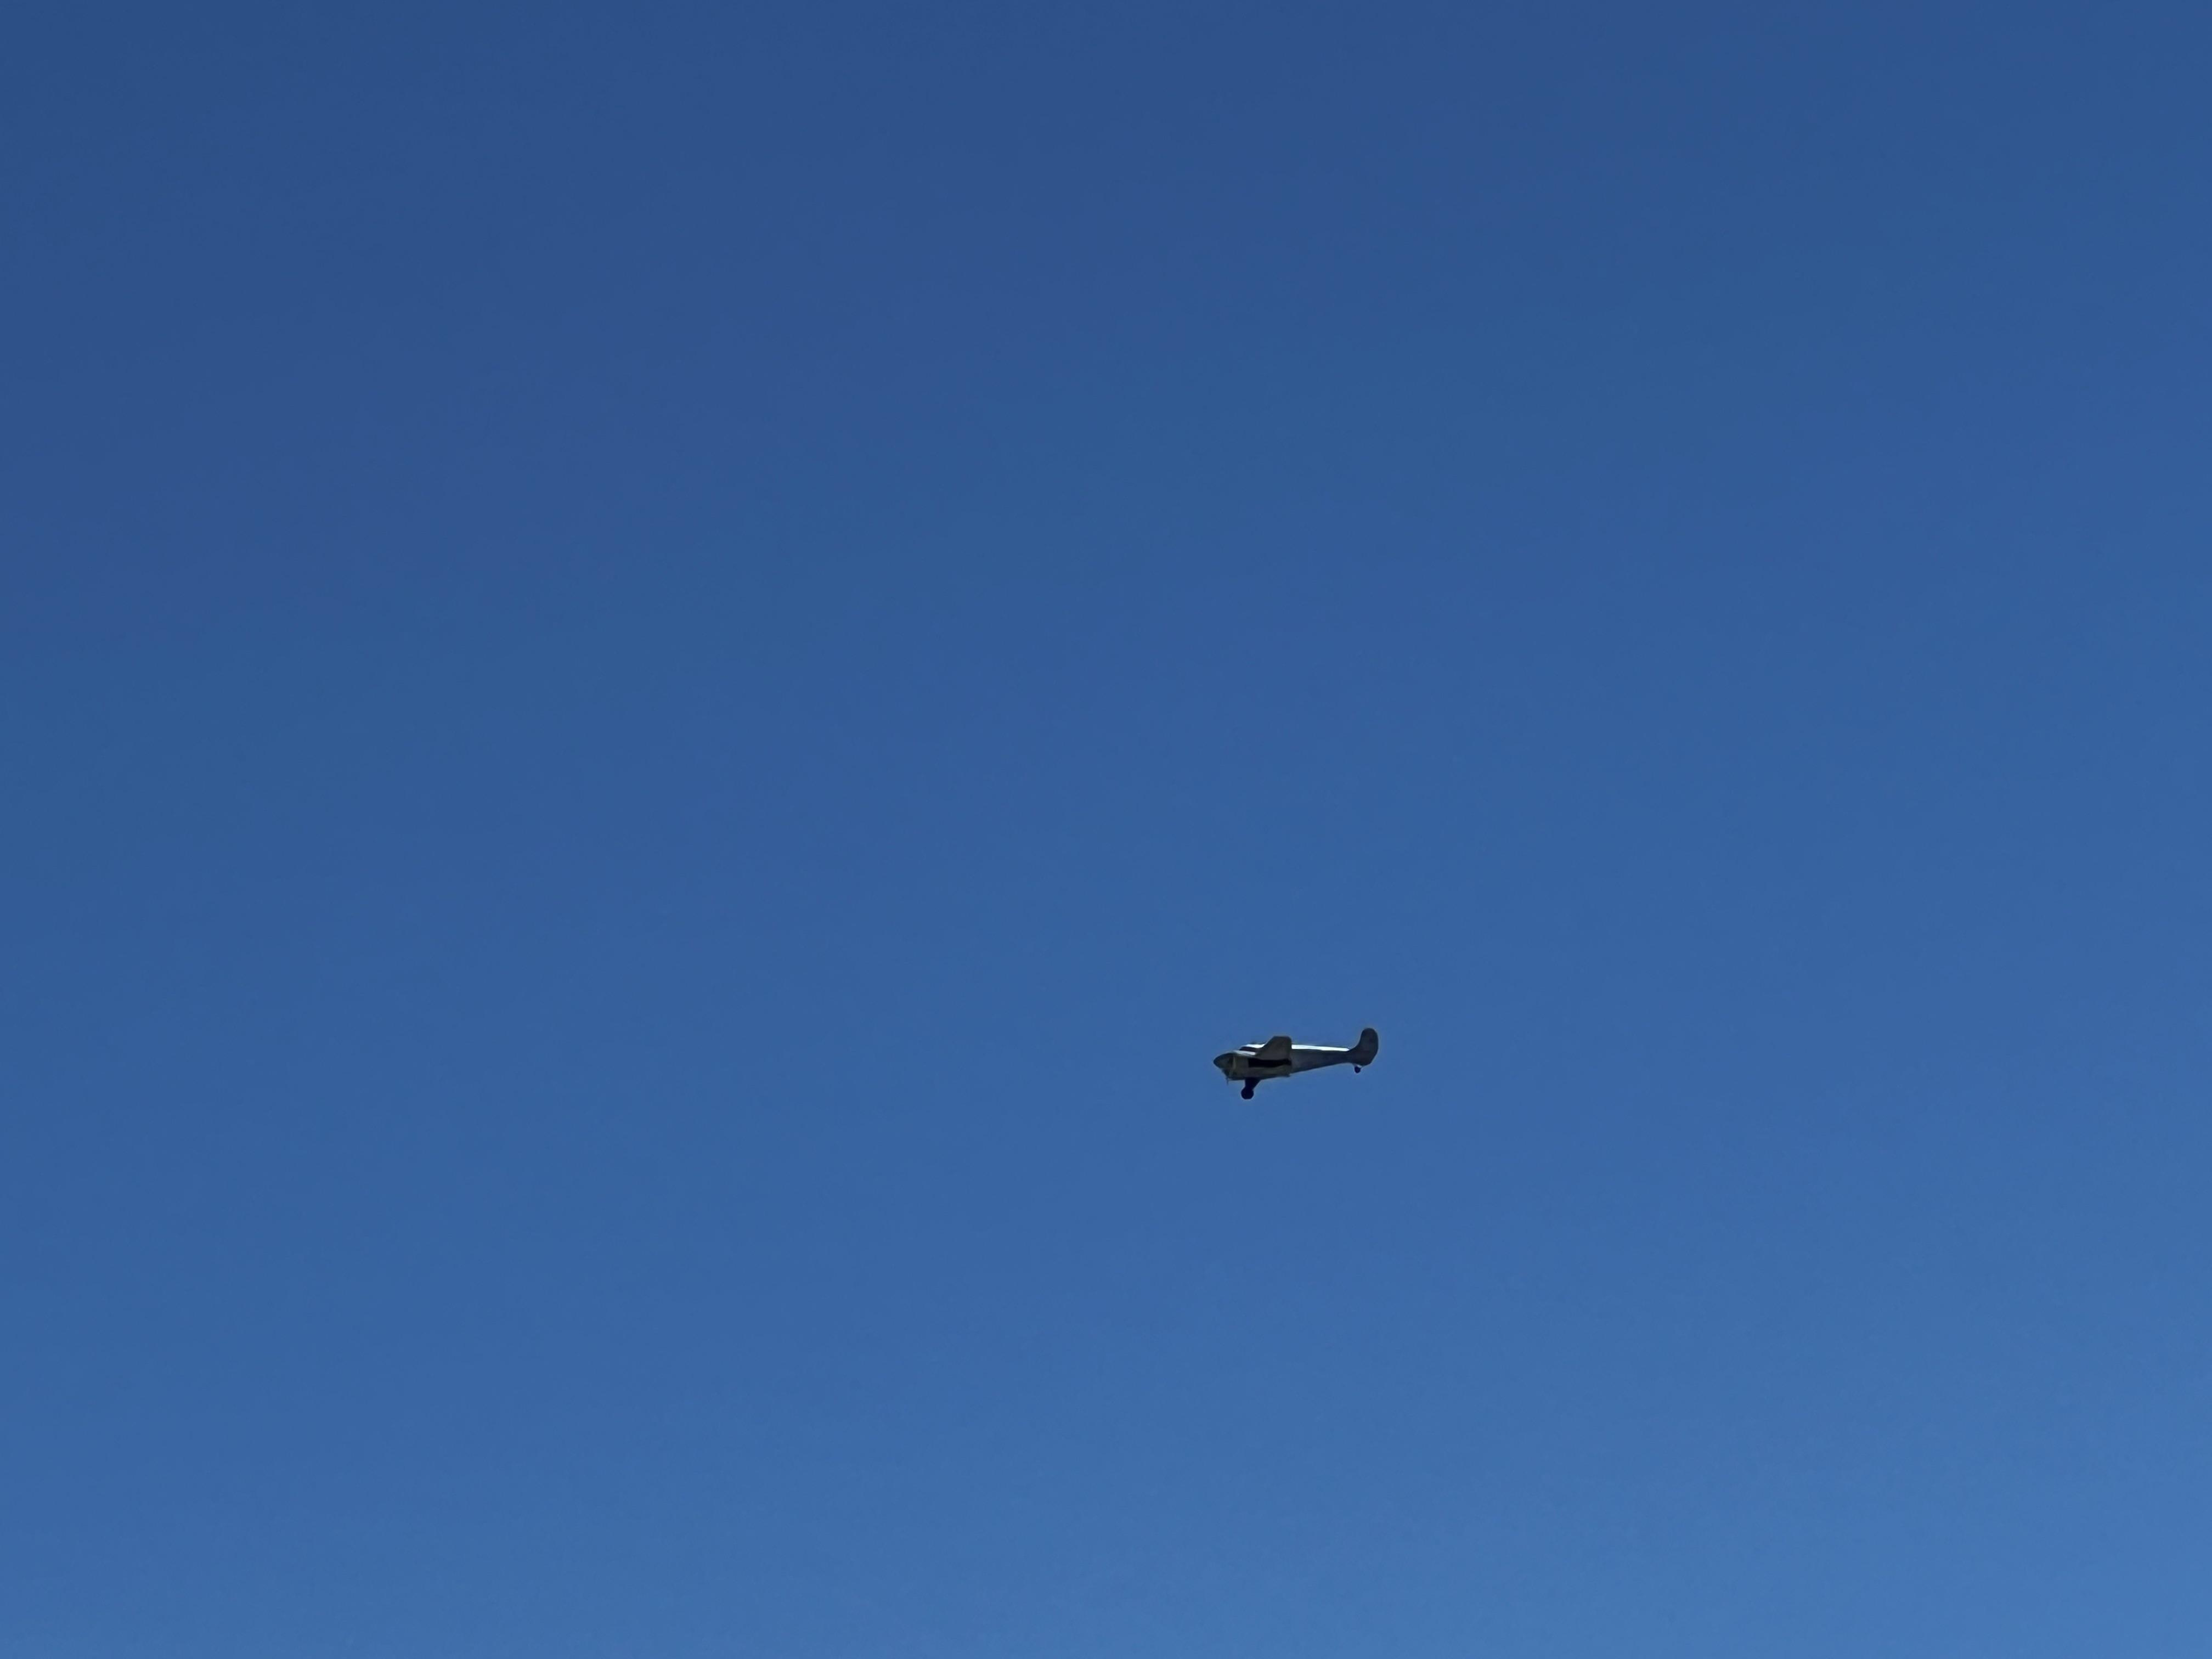Plane: (1141, 986, 1453, 1136)
